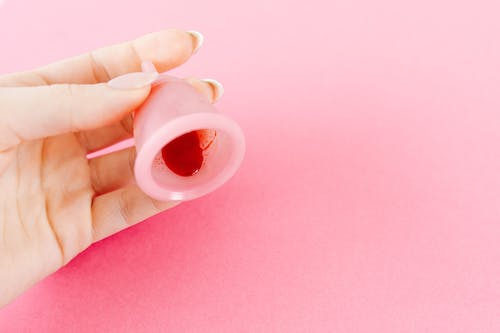blood: (150, 126, 219, 178)
